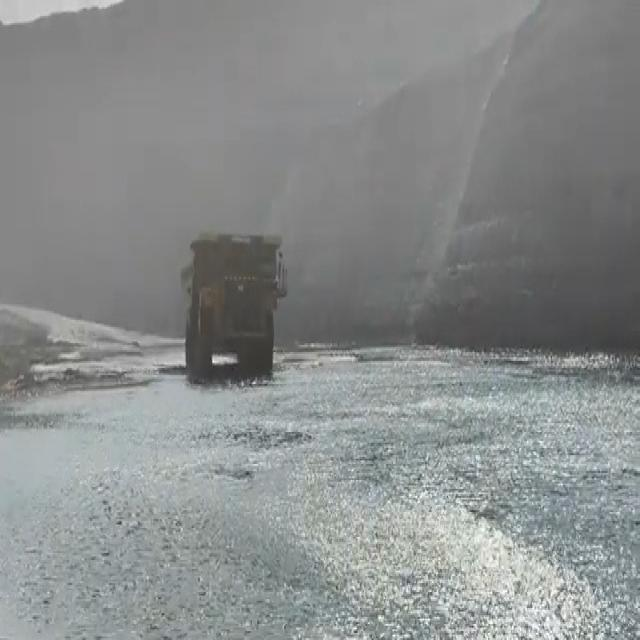dump_truck: (173, 228, 285, 380)
